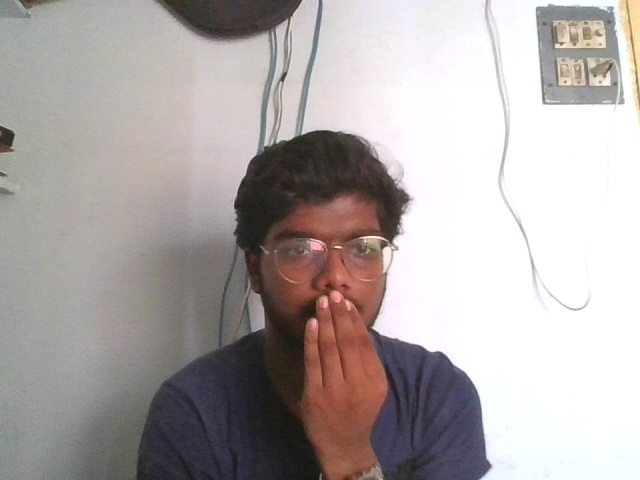Thanks: (291, 288, 390, 446)
